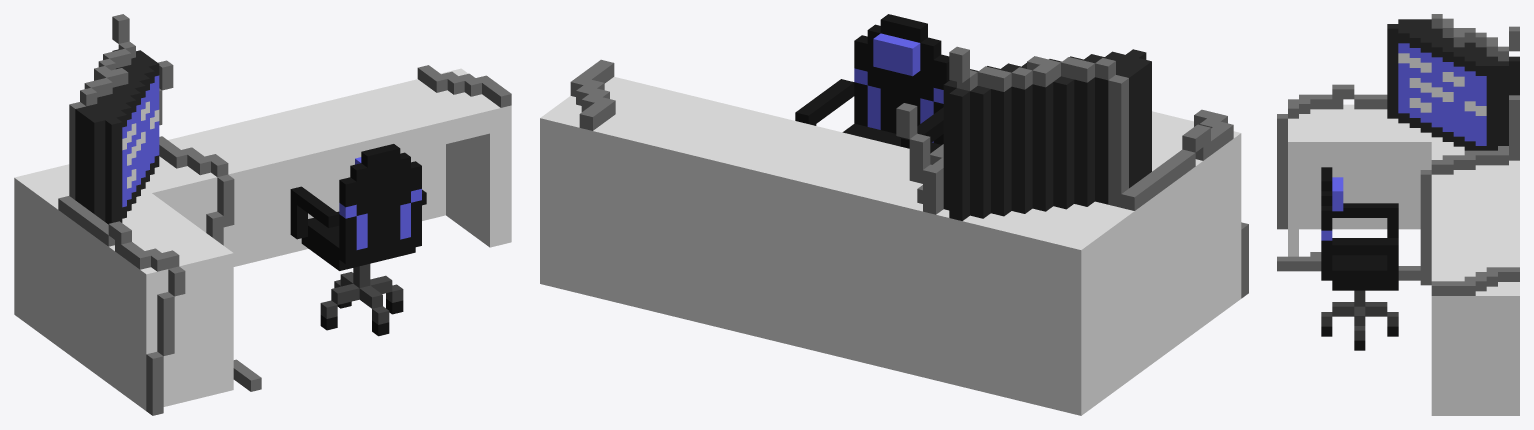
File: hacker room-q-0-2.obj
3 renders of one model, left to right at view 1: azimuth 30°, elevation 25°; view 2: azimuth 150°, elevation 25°; view 3: azimuth 270°, elevation 25°, orthographic. The views are drawn at different scales.
Bounding box in the file's own units: 4.1 × 2.4 × 2.2.
Materials: 1 (1 with a texture image).
